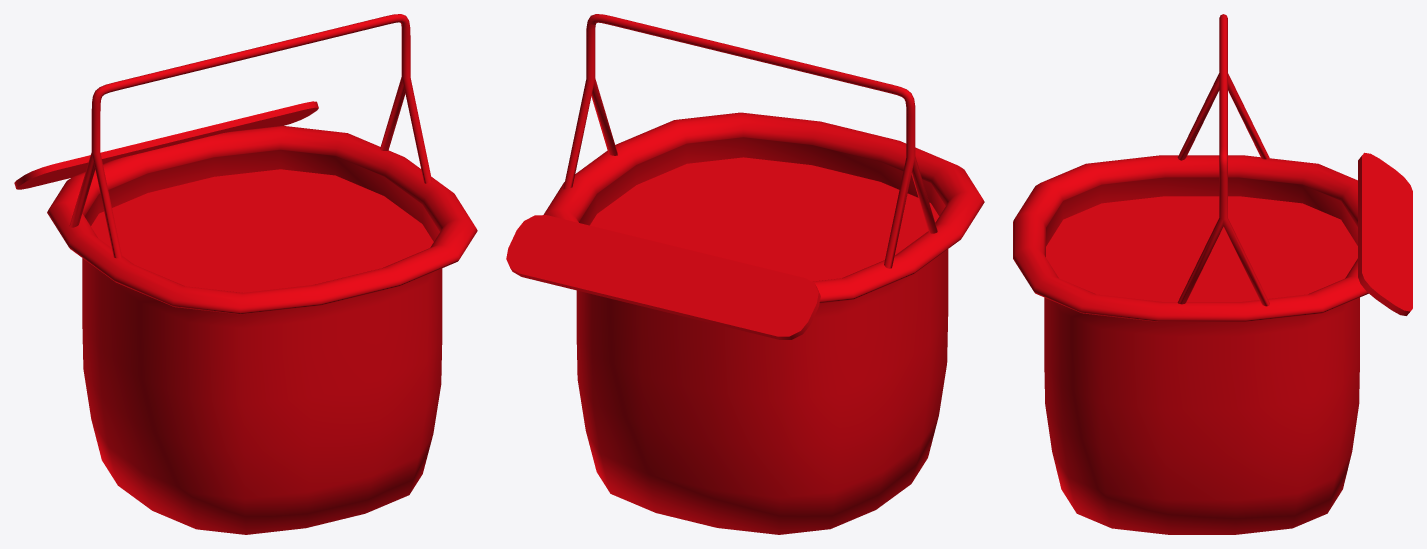
Rendered from BaseTower_Head.fbx.
The picture shows the model from 3 angles, left to right: view 1: azimuth 30°, elevation 25°; view 2: azimuth 150°, elevation 25°; view 3: azimuth 270°, elevation 25°; orthographic projection. The views are drawn at different scales.
Visible parts, largest first — view 1: Sand.002; view 2: Sand.002; view 3: Sand.002.
Boxes of the visible parts, x1=… form: Sand.002: x1=14, y1=14, x2=477, y2=534; Sand.002: x1=506, y1=14, x2=984, y2=534; Sand.002: x1=1013, y1=14, x2=1412, y2=534.
Bounding box in the file's own units: 141 × 162 × 149.
